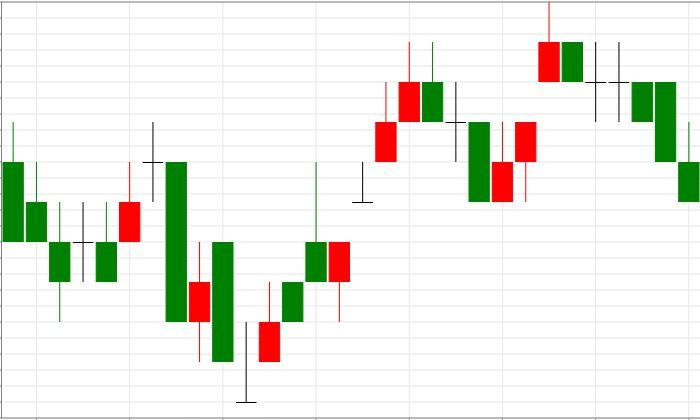evening_star_fall: (49, 122, 187, 322)
